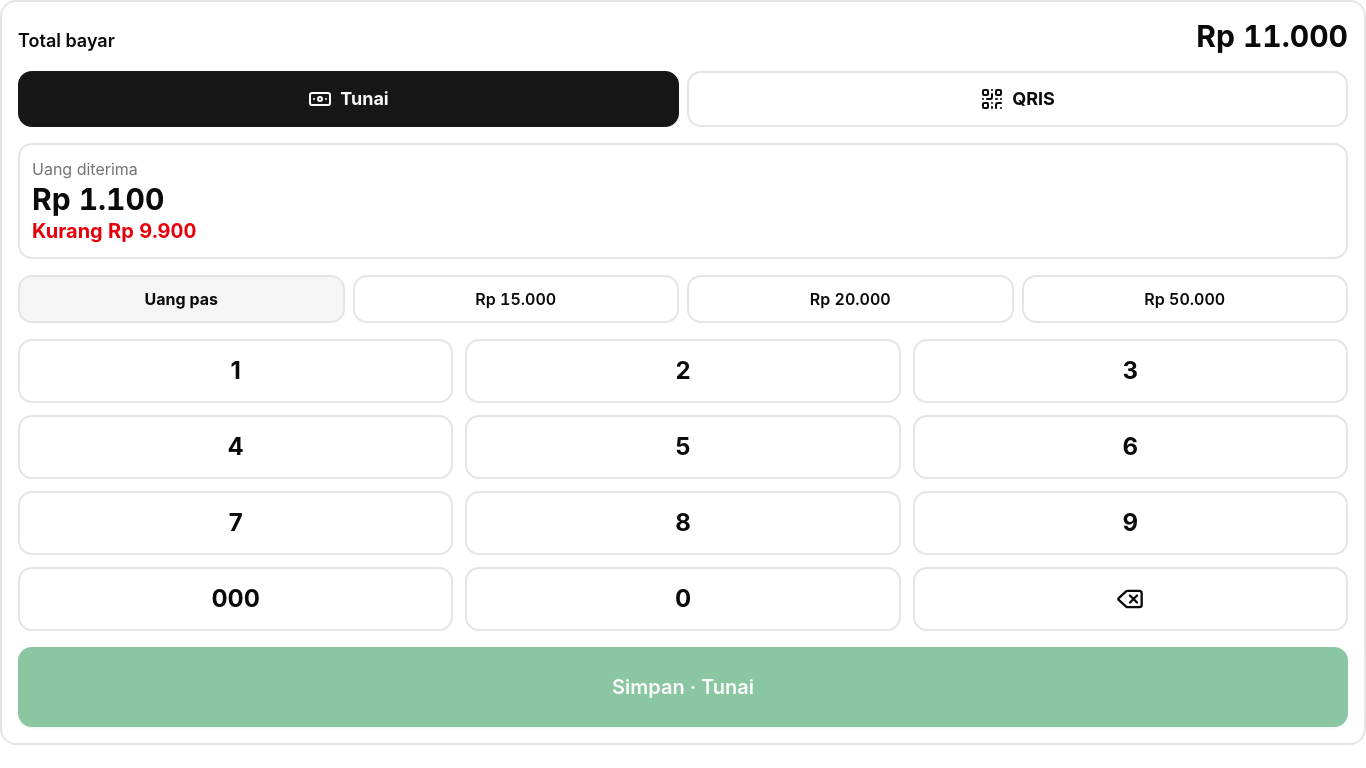
POS — keranjang & pembayaran › US-M6-01 KP-2 tunai: bawaan uang pas, kembalian dihitung, kurang → tombol nonaktif
Earlier steps of the test are not shown.
Later steps or results of the test are not shown.
Click the button named "Hapus satu angka": (1130, 599) [913, 567, 1348, 631]
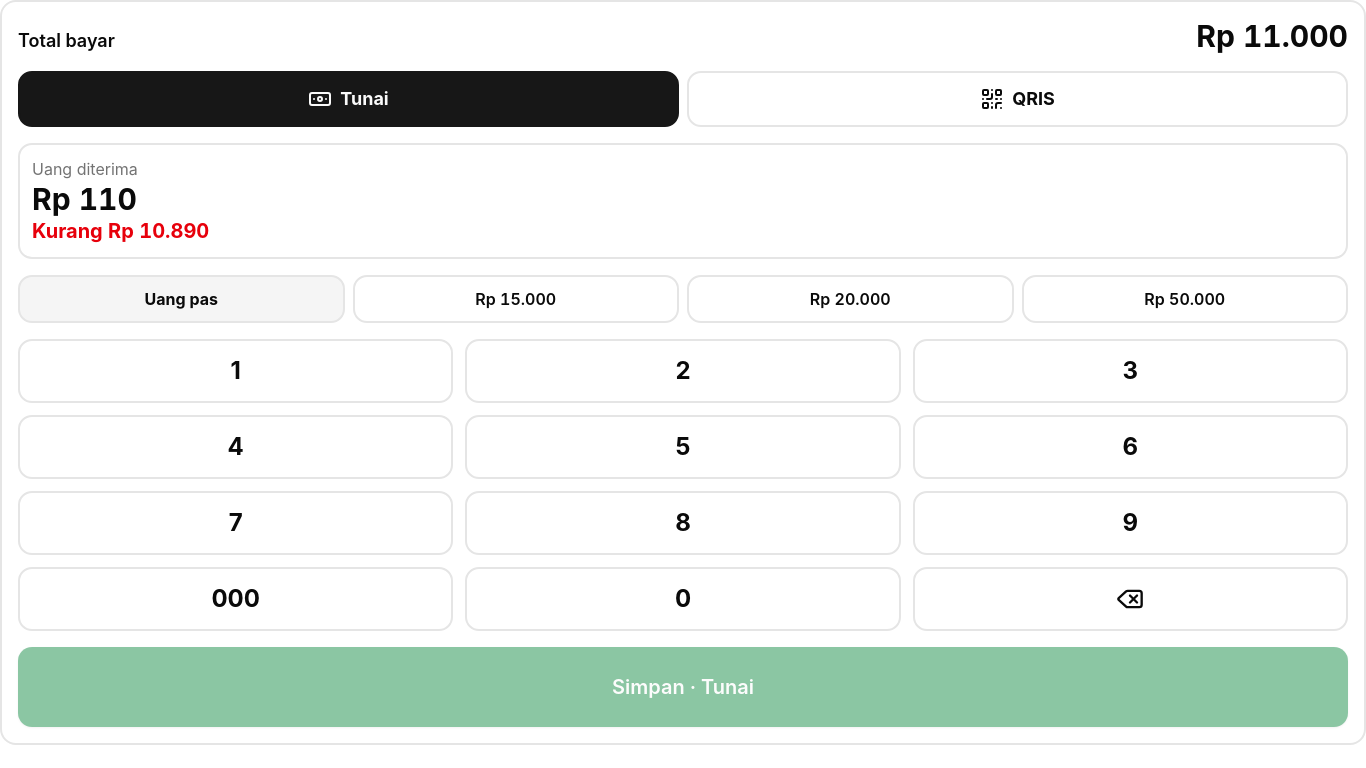
Click the button named "Hapus satu angka": (1130, 599) [913, 567, 1348, 631]
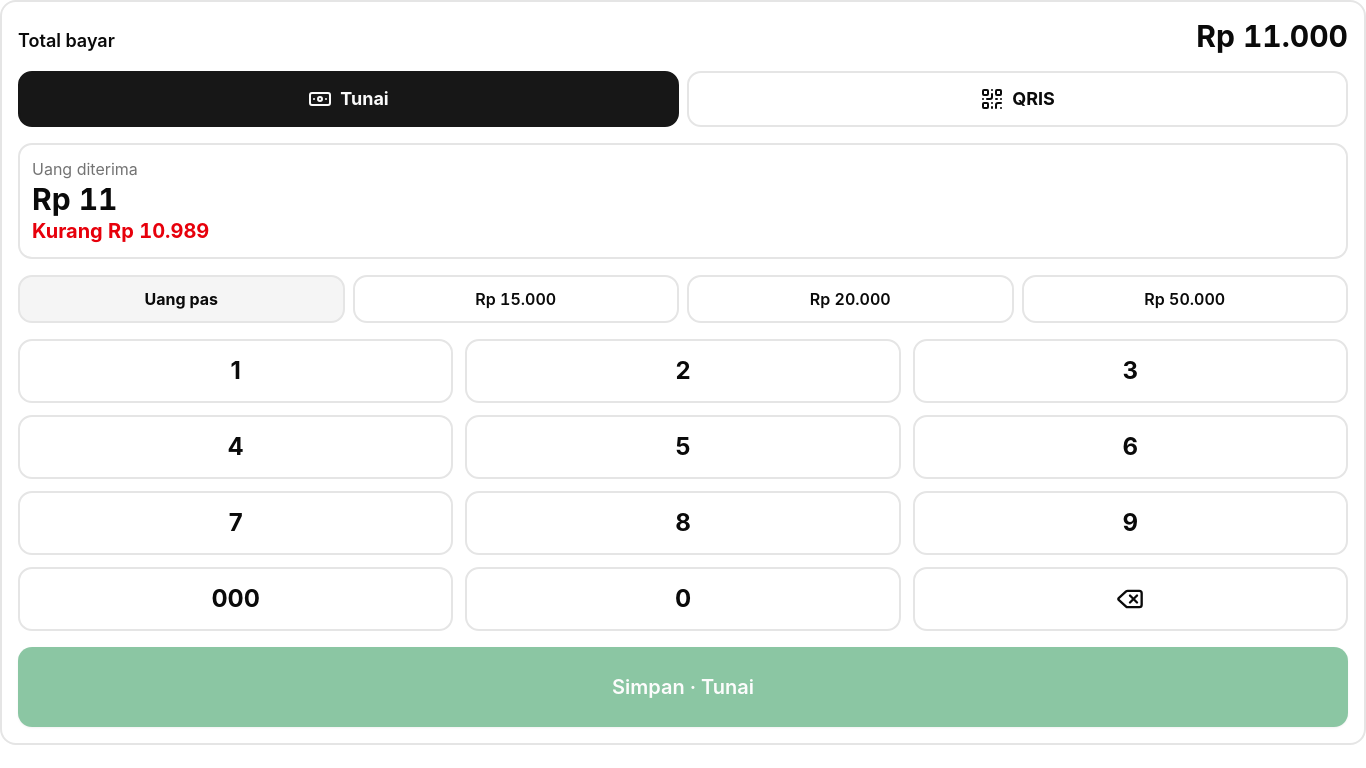
Click the button named "Hapus satu angka": (1130, 599) [913, 567, 1348, 631]
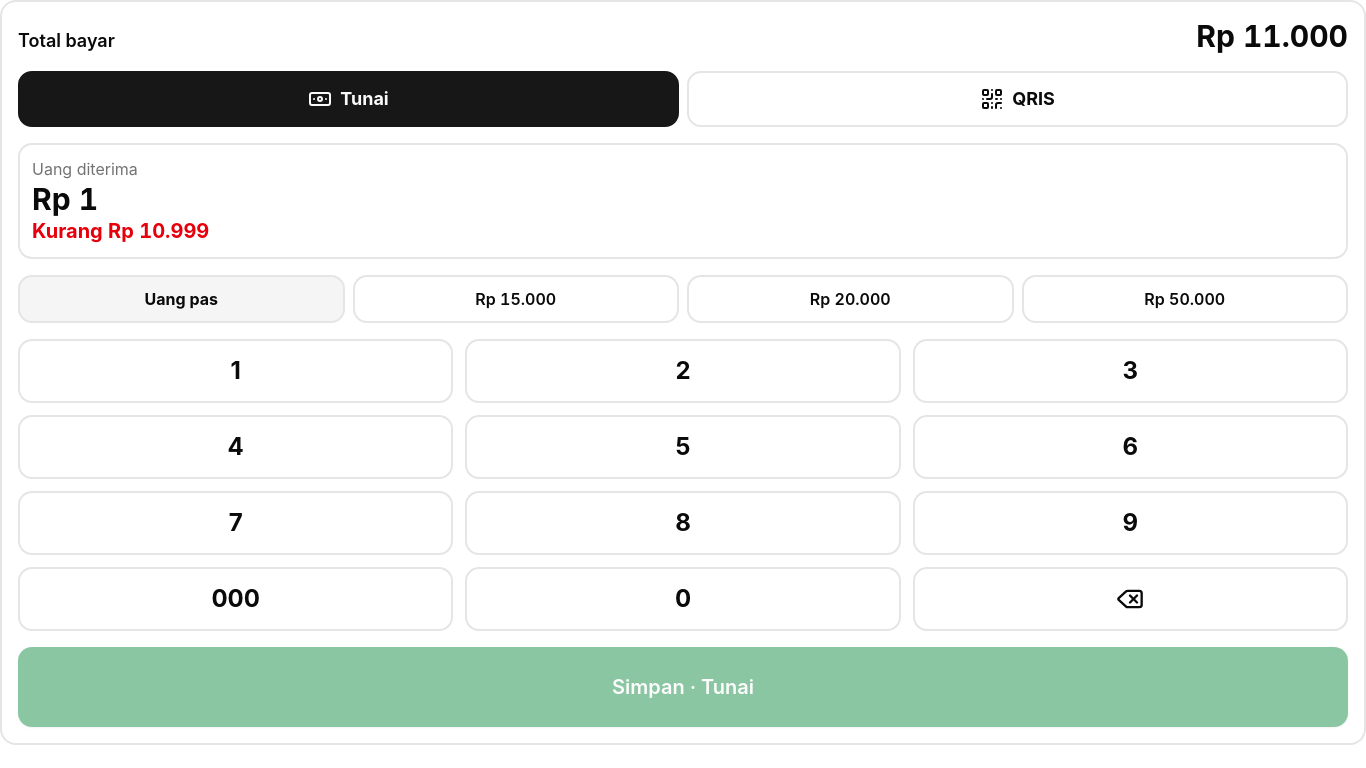
Click the button named "Hapus satu angka": (1130, 599) [913, 567, 1348, 631]
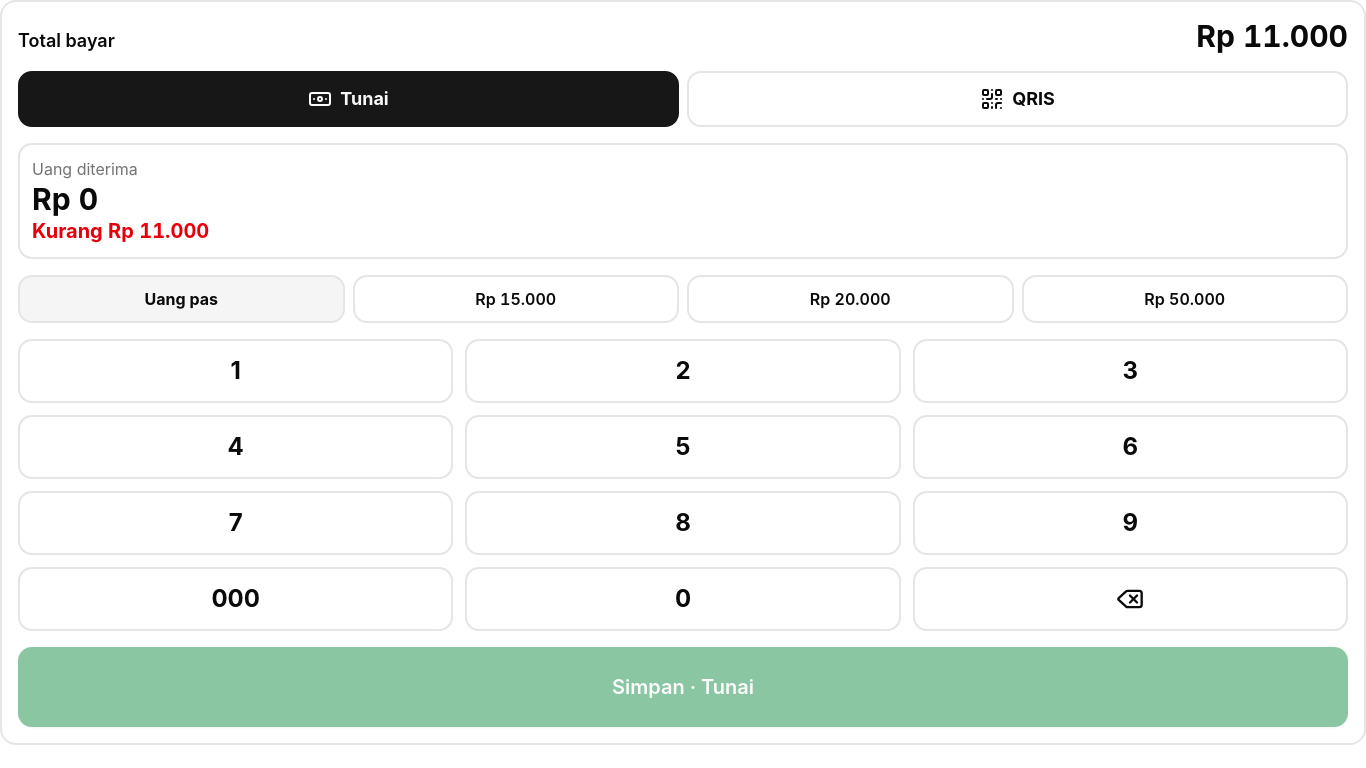
Click the button "5": (683, 447) [465, 415, 901, 479]
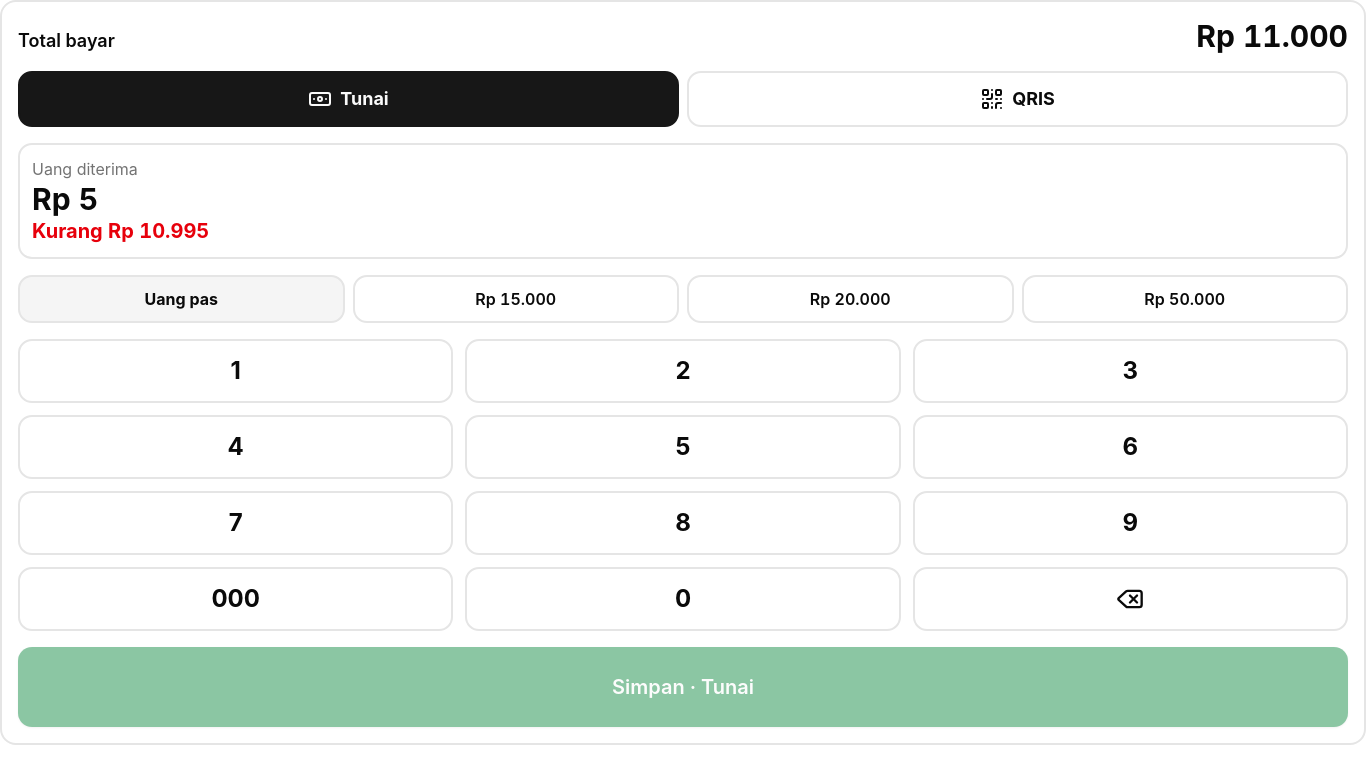
Click the button "000": (236, 599) [18, 567, 453, 631]
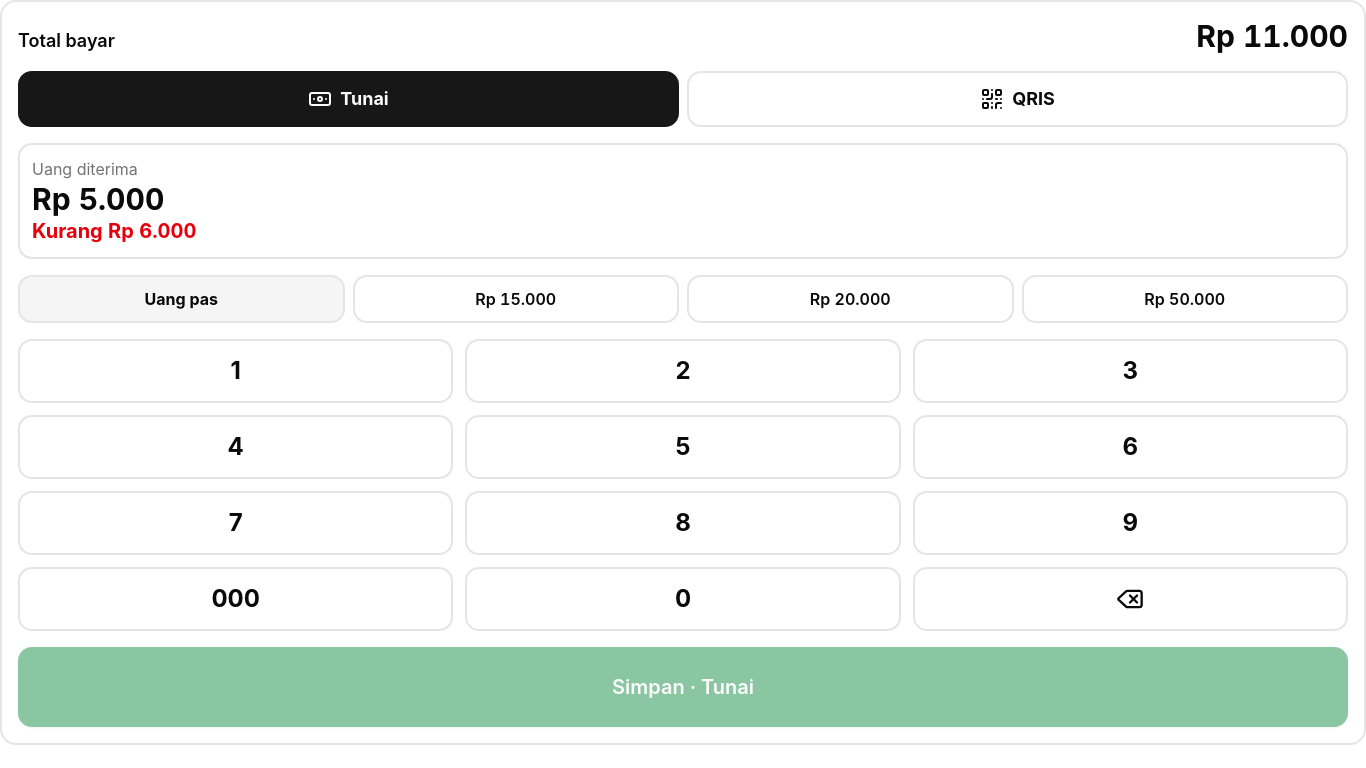
Check: the button "Simpan · Tunai" is disabled, box [18, 647, 1348, 727]
Check: the text with test id "pos-change" reads "Kurang Rp 6.000", box [32, 219, 196, 243]
